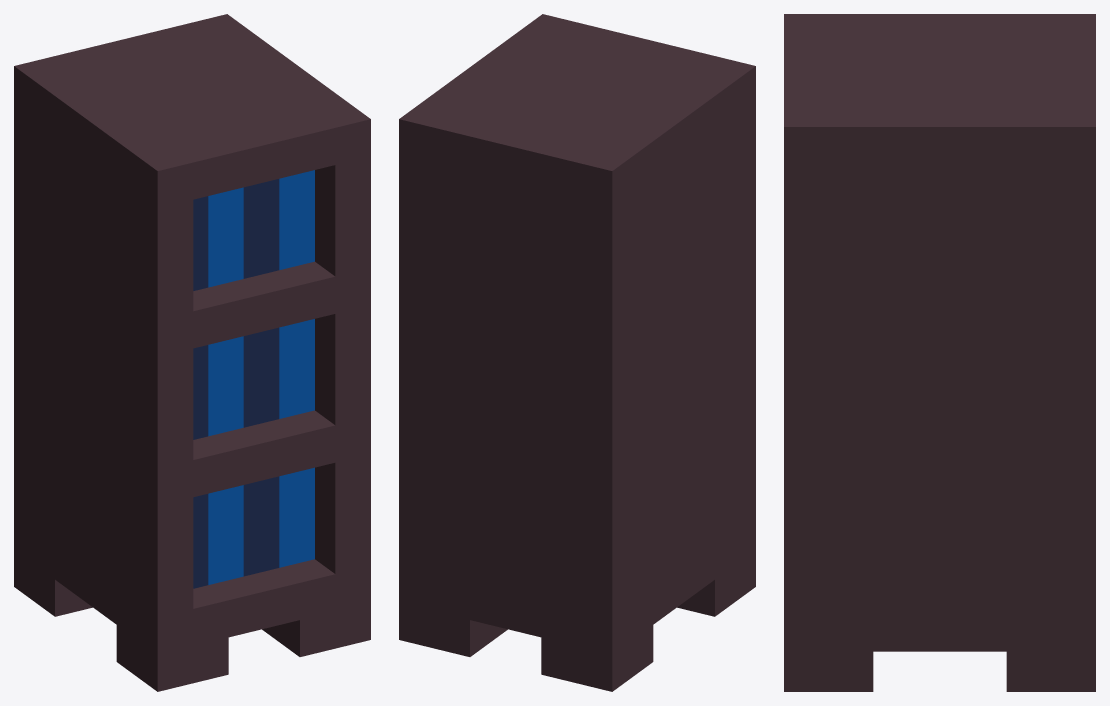
Rendered from small_bookcase_c_blue.obj.
The picture shows the model from 3 angles, left to right: view 1: azimuth 30°, elevation 25°; view 2: azimuth 150°, elevation 25°; view 3: azimuth 270°, elevation 25°; orthographic projection. The views are drawn at different scales.
Bounding box in the file's own units: 0.6 × 1.4 × 0.7.
Materials: 1 (1 with a texture image).
